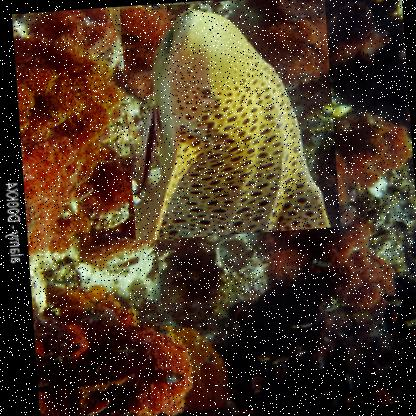zebra_shark: (118, 0, 341, 241)
